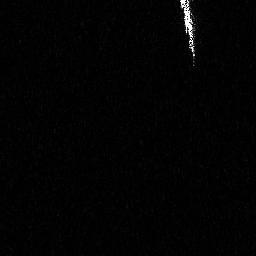ship: (178, 1, 199, 68)
